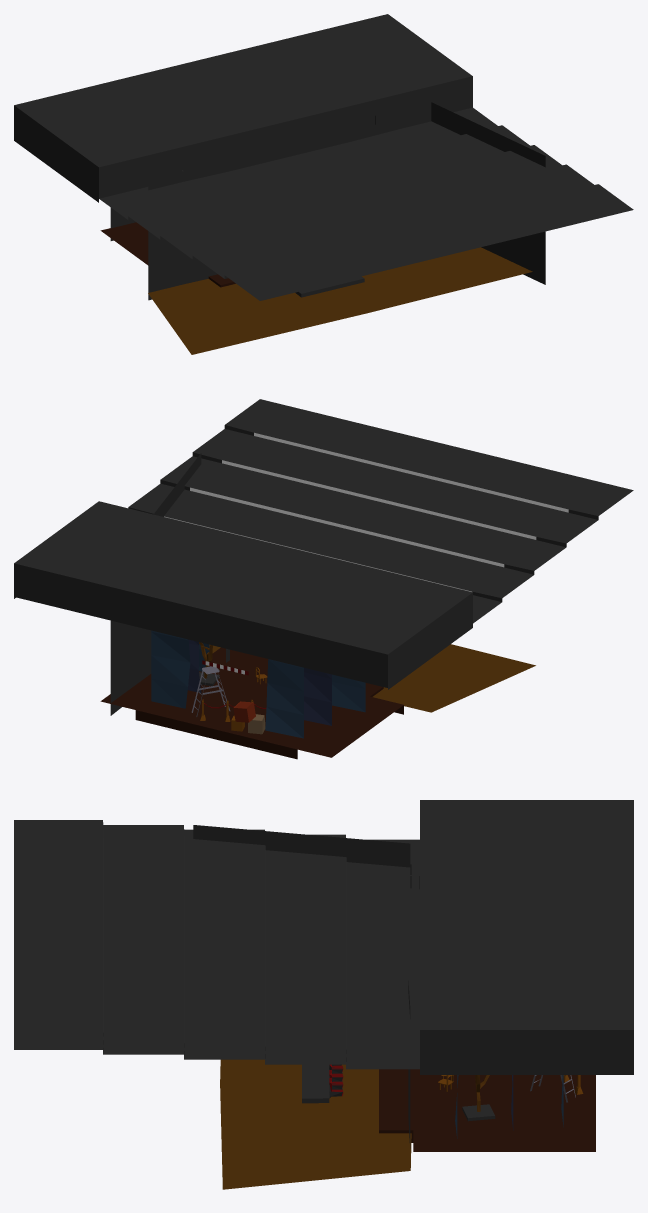
File: StageV6.glb
3 renders of one model, top to bottom at view 1: azimuth 30°, elevation 25°; view 2: azimuth 150°, elevation 25°; view 3: azimuth 270°, elevation 25°, orthographic. The views are drawn at different scales.
Visible parts, largest first — view 1: Roof, Floor, Wall.001, Stage-wall, Wall, Stage-floor; view 2: Roof, Stage-floor, Floor, Stage-wall, Plane.006, Plane.003, Plane.005, Plane.004, Wall.001, Plane.002; view 3: Roof, Floor, Stage-floor, Wall, Cube, Cube.021.
Part boxes in pixels (x1,y1,x2,y2): Roof: (14,14,633,300); Floor: (148,247,532,354); Wall.001: (375,102,545,284); Stage-wall: (110,118,401,284); Wall: (148,163,181,300); Stage-floor: (100,222,235,287); Roof: (14,399,633,689); Stage-floor: (100,647,403,759); Floor: (209,644,535,712); Stage-wall: (110,620,229,715); Plane.006: (265,659,303,738); Plane.003: (151,630,190,708); Plane.005: (304,667,331,725); Plane.004: (332,674,365,712); Wall.001: (153,453,201,516); Plane.002: (187,639,201,693); Roof: (14,800,633,1074); Floor: (220,1059,411,1189); Stage-floor: (379,1069,595,1151); Wall: (193,825,411,888); Cube: (302,1064,329,1103); Cube.021: (462,1075,495,1121).
Bounding box in the file's own units: 20.16 × 7.58 × 22.98.
